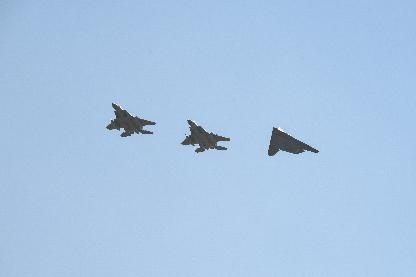E7: (268, 126, 318, 155)
F117: (105, 103, 155, 137), (180, 119, 230, 152)
